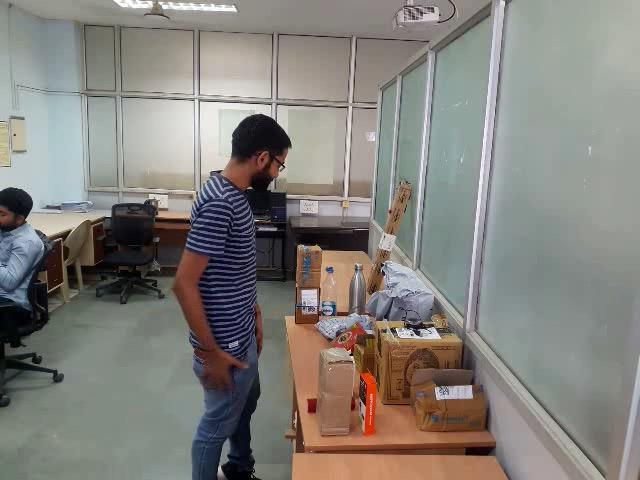Shoplifting: (162, 93, 302, 480)
